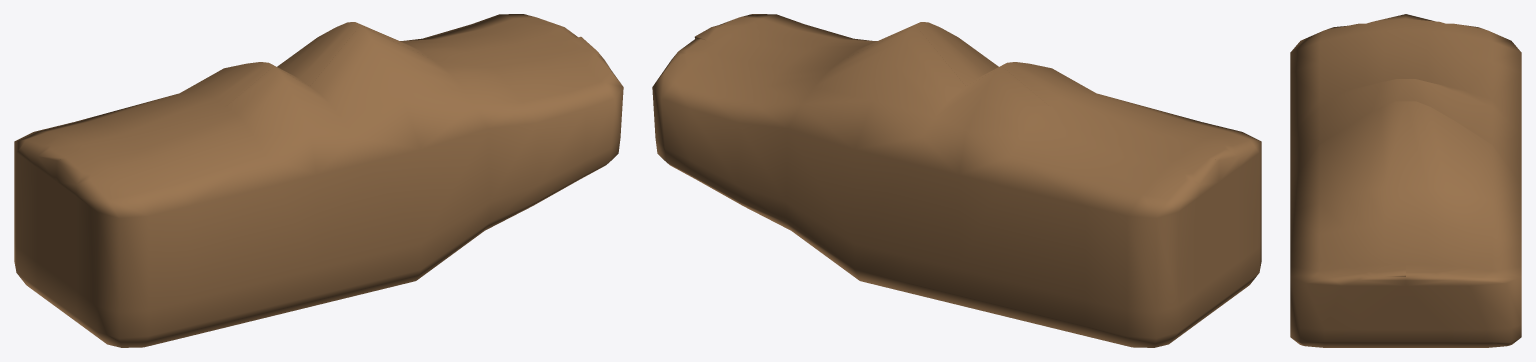
File: ReliefValveHousing.fbx
3 views of the same model, side by side, from view 1: azimuth 30°, elevation 25°; view 2: azimuth 150°, elevation 25°; view 3: azimuth 270°, elevation 25° (orthographic).
Parts seen in each view (by area): view 1: ReliefValveHousing_Baked; view 2: ReliefValveHousing_Baked; view 3: ReliefValveHousing_Baked.
Boxes of the visible parts, x1=… form: ReliefValveHousing_Baked: x1=14, y1=14, x2=623, y2=347; ReliefValveHousing_Baked: x1=652, y1=14, x2=1261, y2=347; ReliefValveHousing_Baked: x1=1290, y1=14, x2=1521, y2=347.
Bounding box in the file's own units: 12.75 × 5.21 × 4.85.
Materials: 1 (1 with a texture image).
